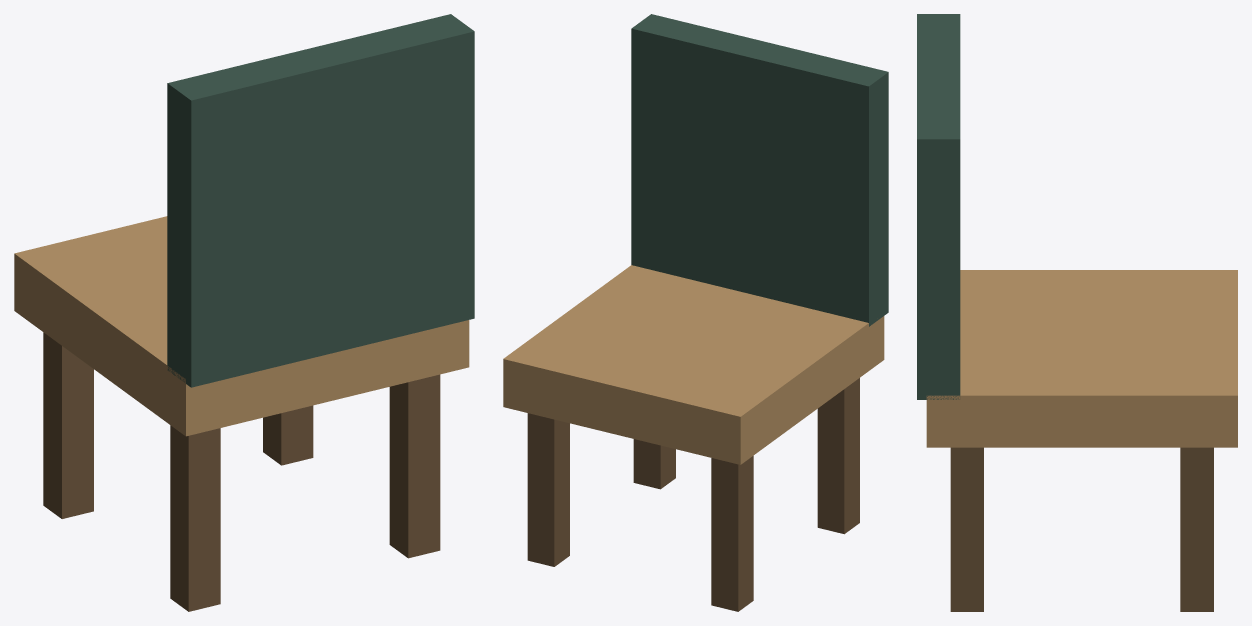
3 views of the same model, side by side, from view 1: azimuth 30°, elevation 25°; view 2: azimuth 150°, elevation 25°; view 3: azimuth 270°, elevation 25° (orthographic). The views are drawn at different scales.
Bounding box in the file's own units: 0.62 × 1.1 × 0.67.
